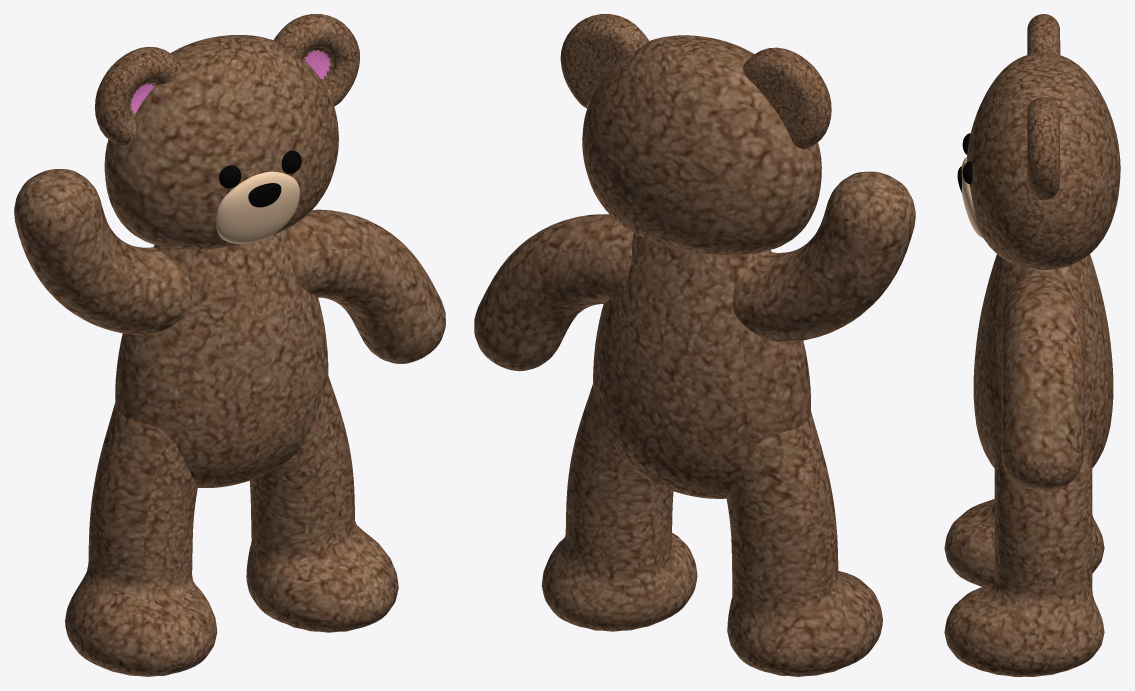
The model's file is c760f85a-74c5-492e-9719-9cb0f2acfc88-build_a_bear.glb.
3 renders of one model, left to right at view 1: azimuth 30°, elevation 25°; view 2: azimuth 150°, elevation 25°; view 3: azimuth 270°, elevation 25°, orthographic. The views are drawn at different scales.
Visible parts, largest first — view 1: polySurface3, revolvedSurface2, polySurface4, polySurface6, polySurface5, pTorus2, pTorus1, revolvedSurface3; view 2: revolvedSurface2, polySurface3, polySurface4, polySurface6, polySurface5, pTorus2, pTorus1; view 3: revolvedSurface2, polySurface5, polySurface4, polySurface3, polySurface6, pTorus1, pTorus2, revolvedSurface3.
Part boxes in pixels (x1,y1,x2,y2): polySurface3: [115, 228, 328, 487]; revolvedSurface2: [104, 35, 338, 249]; polySurface4: [14, 169, 445, 363]; polySurface6: [65, 403, 217, 676]; polySurface5: [246, 376, 398, 632]; pTorus2: [95, 47, 181, 145]; pTorus1: [273, 14, 359, 106]; revolvedSurface3: [216, 171, 299, 244]; revolvedSurface2: [582, 35, 821, 255]; polySurface3: [593, 233, 810, 498]; polySurface4: [474, 171, 915, 371]; polySurface6: [726, 412, 882, 676]; polySurface5: [541, 383, 697, 631]; pTorus2: [743, 47, 831, 149]; pTorus1: [560, 14, 648, 108]; revolvedSurface2: [966, 53, 1120, 270]; polySurface5: [944, 437, 1104, 676]; polySurface4: [1000, 275, 1085, 489]; polySurface3: [973, 254, 1113, 467]; polySurface6: [944, 499, 1104, 586]; pTorus1: [1027, 97, 1059, 200]; pTorus2: [1027, 14, 1060, 54]; revolvedSurface3: [961, 157, 982, 237].
Size of the model in its own units: 0.139 by 0.1875 by 0.0533.
4 materials, 2 textured.
